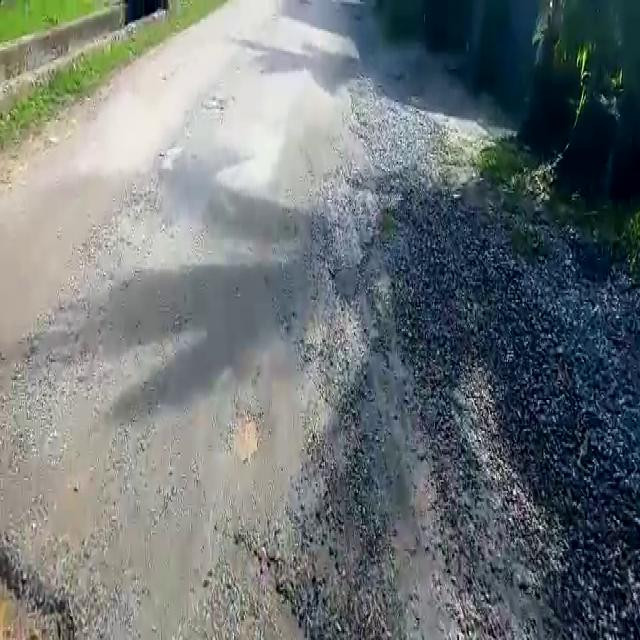Pothole: (0, 529, 91, 640)
